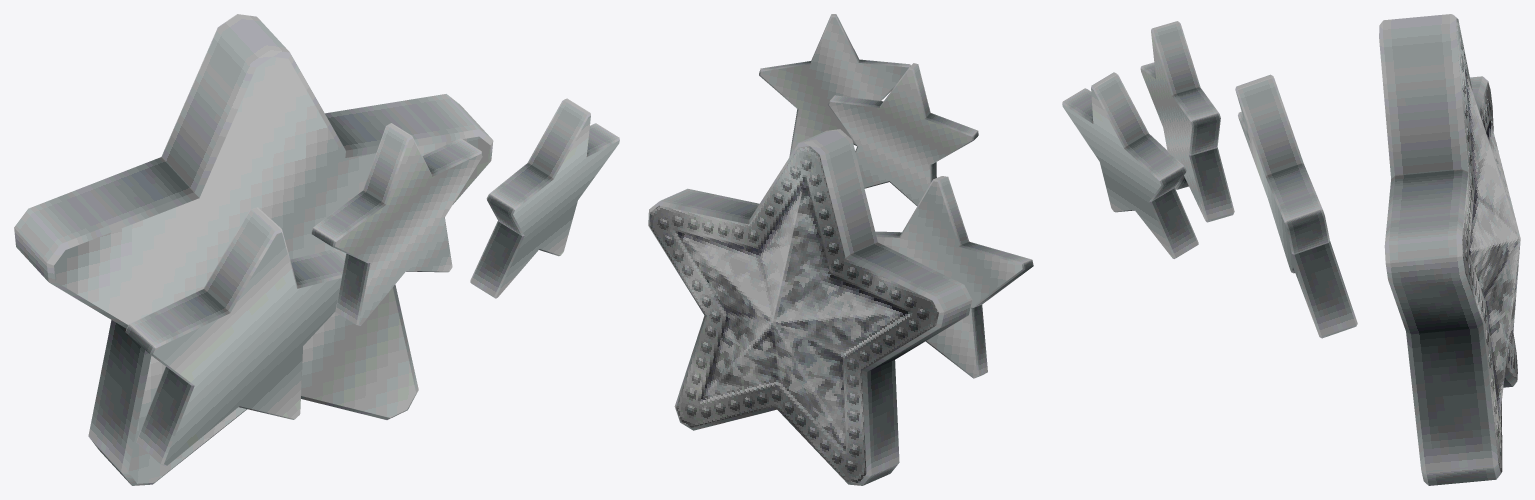
The model's file is ps2_save-icons_pachittechonmagetatsujin15.glb.
3 renders of one model, left to right at view 1: azimuth 30°, elevation 25°; view 2: azimuth 150°, elevation 25°; view 3: azimuth 270°, elevation 25°, orthographic. The views are drawn at different scales.
Parts seen in each view (by area): view 1: view.ico; view 2: view.ico; view 3: view.ico.
Boxes of the visible parts, x1=… form: view.ico: x1=14, y1=14, x2=619, y2=485; view.ico: x1=648, y1=14, x2=1033, y2=485; view.ico: x1=1062, y1=14, x2=1520, y2=485.
Bounding box in the file's own units: 3.88 × 3.88 × 3.77.
1 material, 1 textured.
